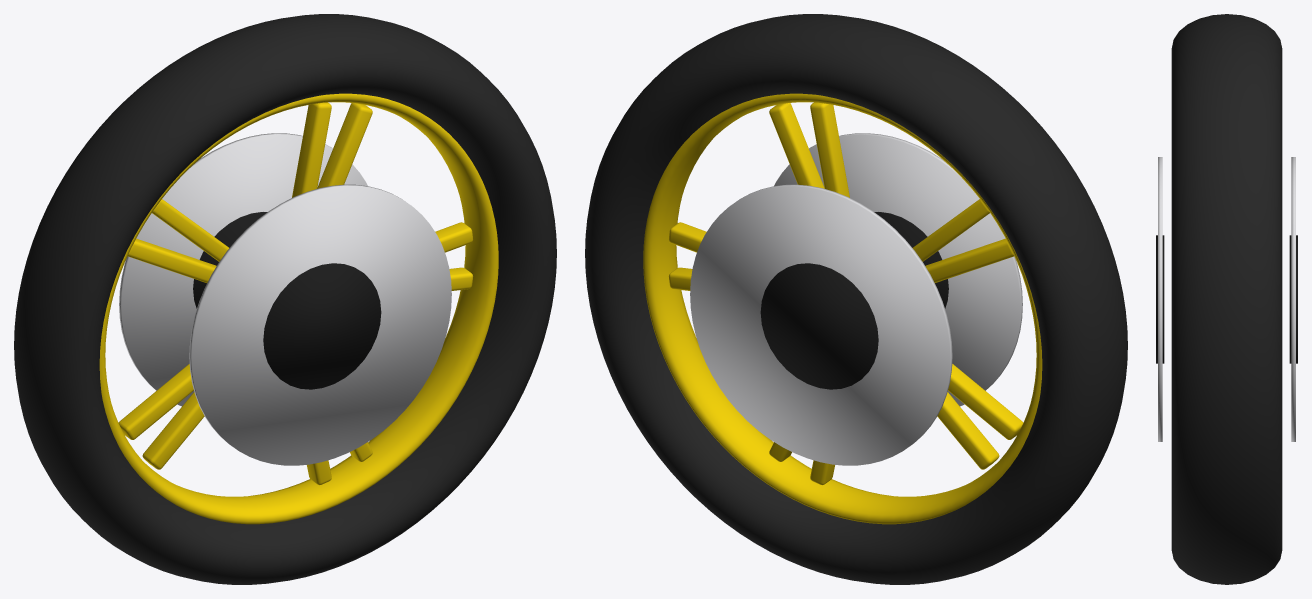
Rendered from NAKED890_RuotaAnteriore.glb.
The picture shows the model from 3 angles, left to right: view 1: azimuth 30°, elevation 25°; view 2: azimuth 150°, elevation 25°; view 3: azimuth 270°, elevation 25°; orthographic projection. The views are drawn at different scales.
Parts seen in each view (by area): view 1: NAKED890_RuotaAnteriore; view 2: NAKED890_RuotaAnteriore; view 3: NAKED890_RuotaAnteriore.
Part boxes in pixels (x1,y1,x2,y2): NAKED890_RuotaAnteriore: (14,14,556,584); NAKED890_RuotaAnteriore: (585,14,1127,584); NAKED890_RuotaAnteriore: (1156,14,1297,584).
Bounding box in the file's own units: 0.62 × 0.62 × 0.154.
